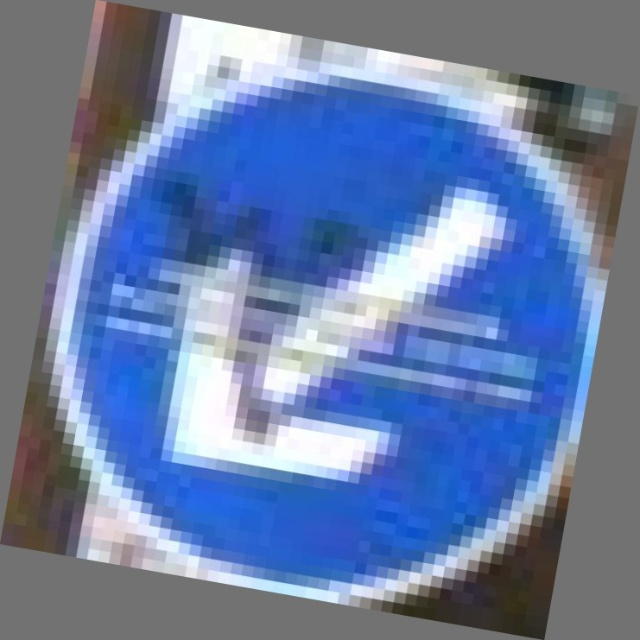R.301e: (2, 0, 629, 627)
